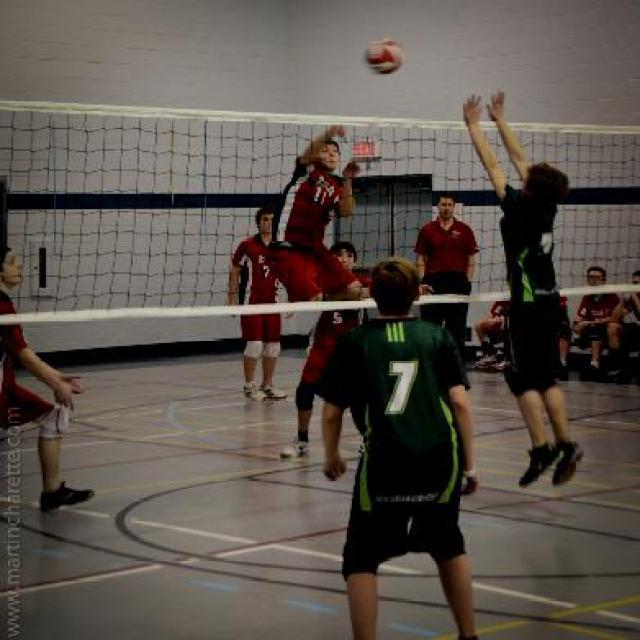volleyball: (364, 37, 406, 74)
